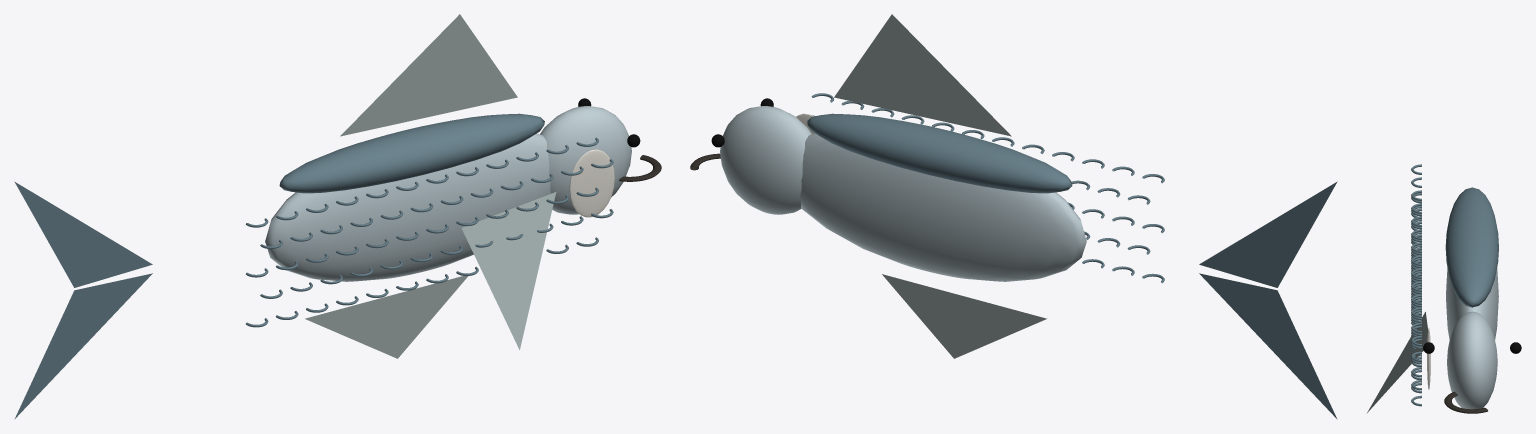
File: hilsa.glb
3 renders of one model, left to right at view 1: azimuth 30°, elevation 25°; view 2: azimuth 150°, elevation 25°; view 3: azimuth 270°, elevation 25°, orthographic. The views are drawn at different scales.
Visible parts, largest first — view 1: deep-compressed-body, darker-dorsal-band, dorsal-fin, pectoral-fin-near, anal-fin, blunt-head, forked-tail-upper, forked-tail-lower, silvery-operculum; view 2: deep-compressed-body, darker-dorsal-band, dorsal-fin, blunt-head, anal-fin, forked-tail-upper, forked-tail-lower; view 3: darker-dorsal-band, blunt-head, deep-compressed-body, pectoral-fin-near, mouth-line, silvery-operculum.
Part boxes in pixels (bbox=[...]): deep-compressed-body: bbox=[265, 133, 550, 281]; darker-dorsal-band: bbox=[279, 113, 544, 193]; dorsal-fin: bbox=[340, 14, 517, 136]; pectoral-fin-near: bbox=[461, 192, 556, 350]; anal-fin: bbox=[305, 276, 468, 358]; blunt-head: bbox=[540, 106, 631, 214]; forked-tail-upper: bbox=[14, 181, 152, 287]; forked-tail-lower: bbox=[14, 273, 152, 419]; silvery-operculum: bbox=[569, 149, 614, 217]; deep-compressed-body: bbox=[800, 133, 1086, 281]; darker-dorsal-band: bbox=[807, 113, 1072, 193]; dorsal-fin: bbox=[834, 14, 1011, 136]; blunt-head: bbox=[720, 106, 811, 214]; anal-fin: bbox=[882, 274, 1046, 358]; forked-tail-upper: bbox=[1199, 181, 1337, 287]; forked-tail-lower: bbox=[1199, 273, 1337, 419]; darker-dorsal-band: bbox=[1445, 187, 1498, 307]; blunt-head: bbox=[1447, 311, 1497, 409]; deep-compressed-body: bbox=[1446, 267, 1498, 339]; pectoral-fin-near: bbox=[1367, 312, 1427, 412]; mouth-line: bbox=[1444, 391, 1487, 413]; silvery-operculum: bbox=[1427, 328, 1430, 389].
Size of the model in its own units: 3.1 by 1.52 by 0.7325.
